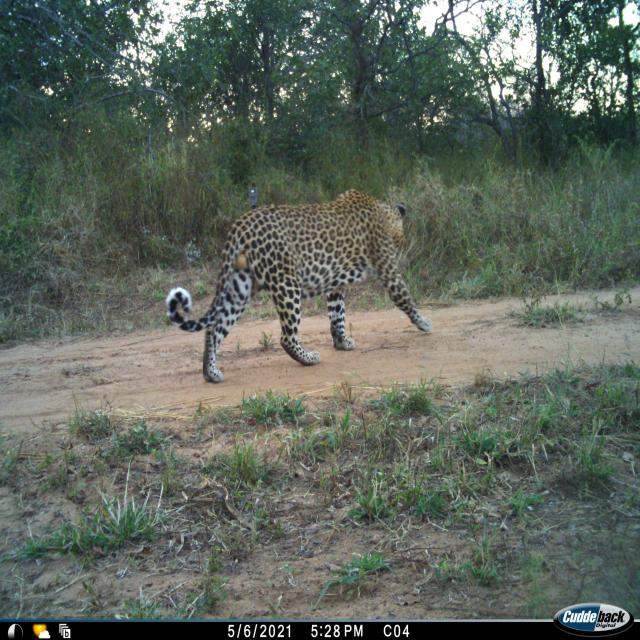Leopard: (168, 183, 434, 378)
